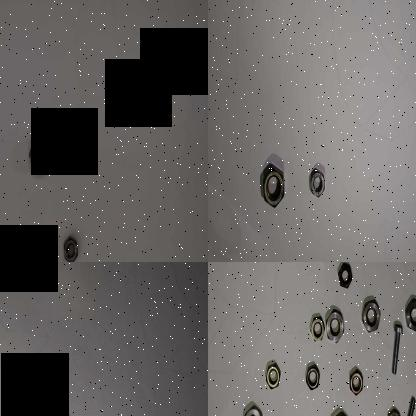Bolts: (390, 320, 404, 377), (399, 394, 416, 416)
NUTS: (255, 160, 289, 214), (26, 128, 53, 180), (343, 358, 370, 401), (323, 303, 347, 344), (262, 356, 284, 396), (360, 292, 380, 335), (307, 166, 327, 202), (57, 235, 83, 262), (303, 357, 322, 393), (403, 289, 416, 337), (308, 312, 324, 346), (335, 262, 355, 289), (239, 400, 266, 416), (0, 248, 25, 262), (324, 406, 353, 416), (384, 403, 402, 416)
